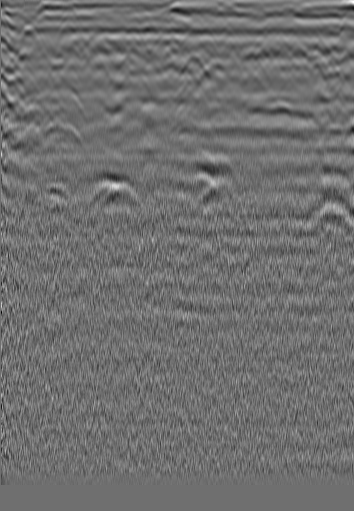가스: (86, 172, 147, 214)
상수: (305, 41, 325, 61)
우수: (161, 38, 181, 58)
